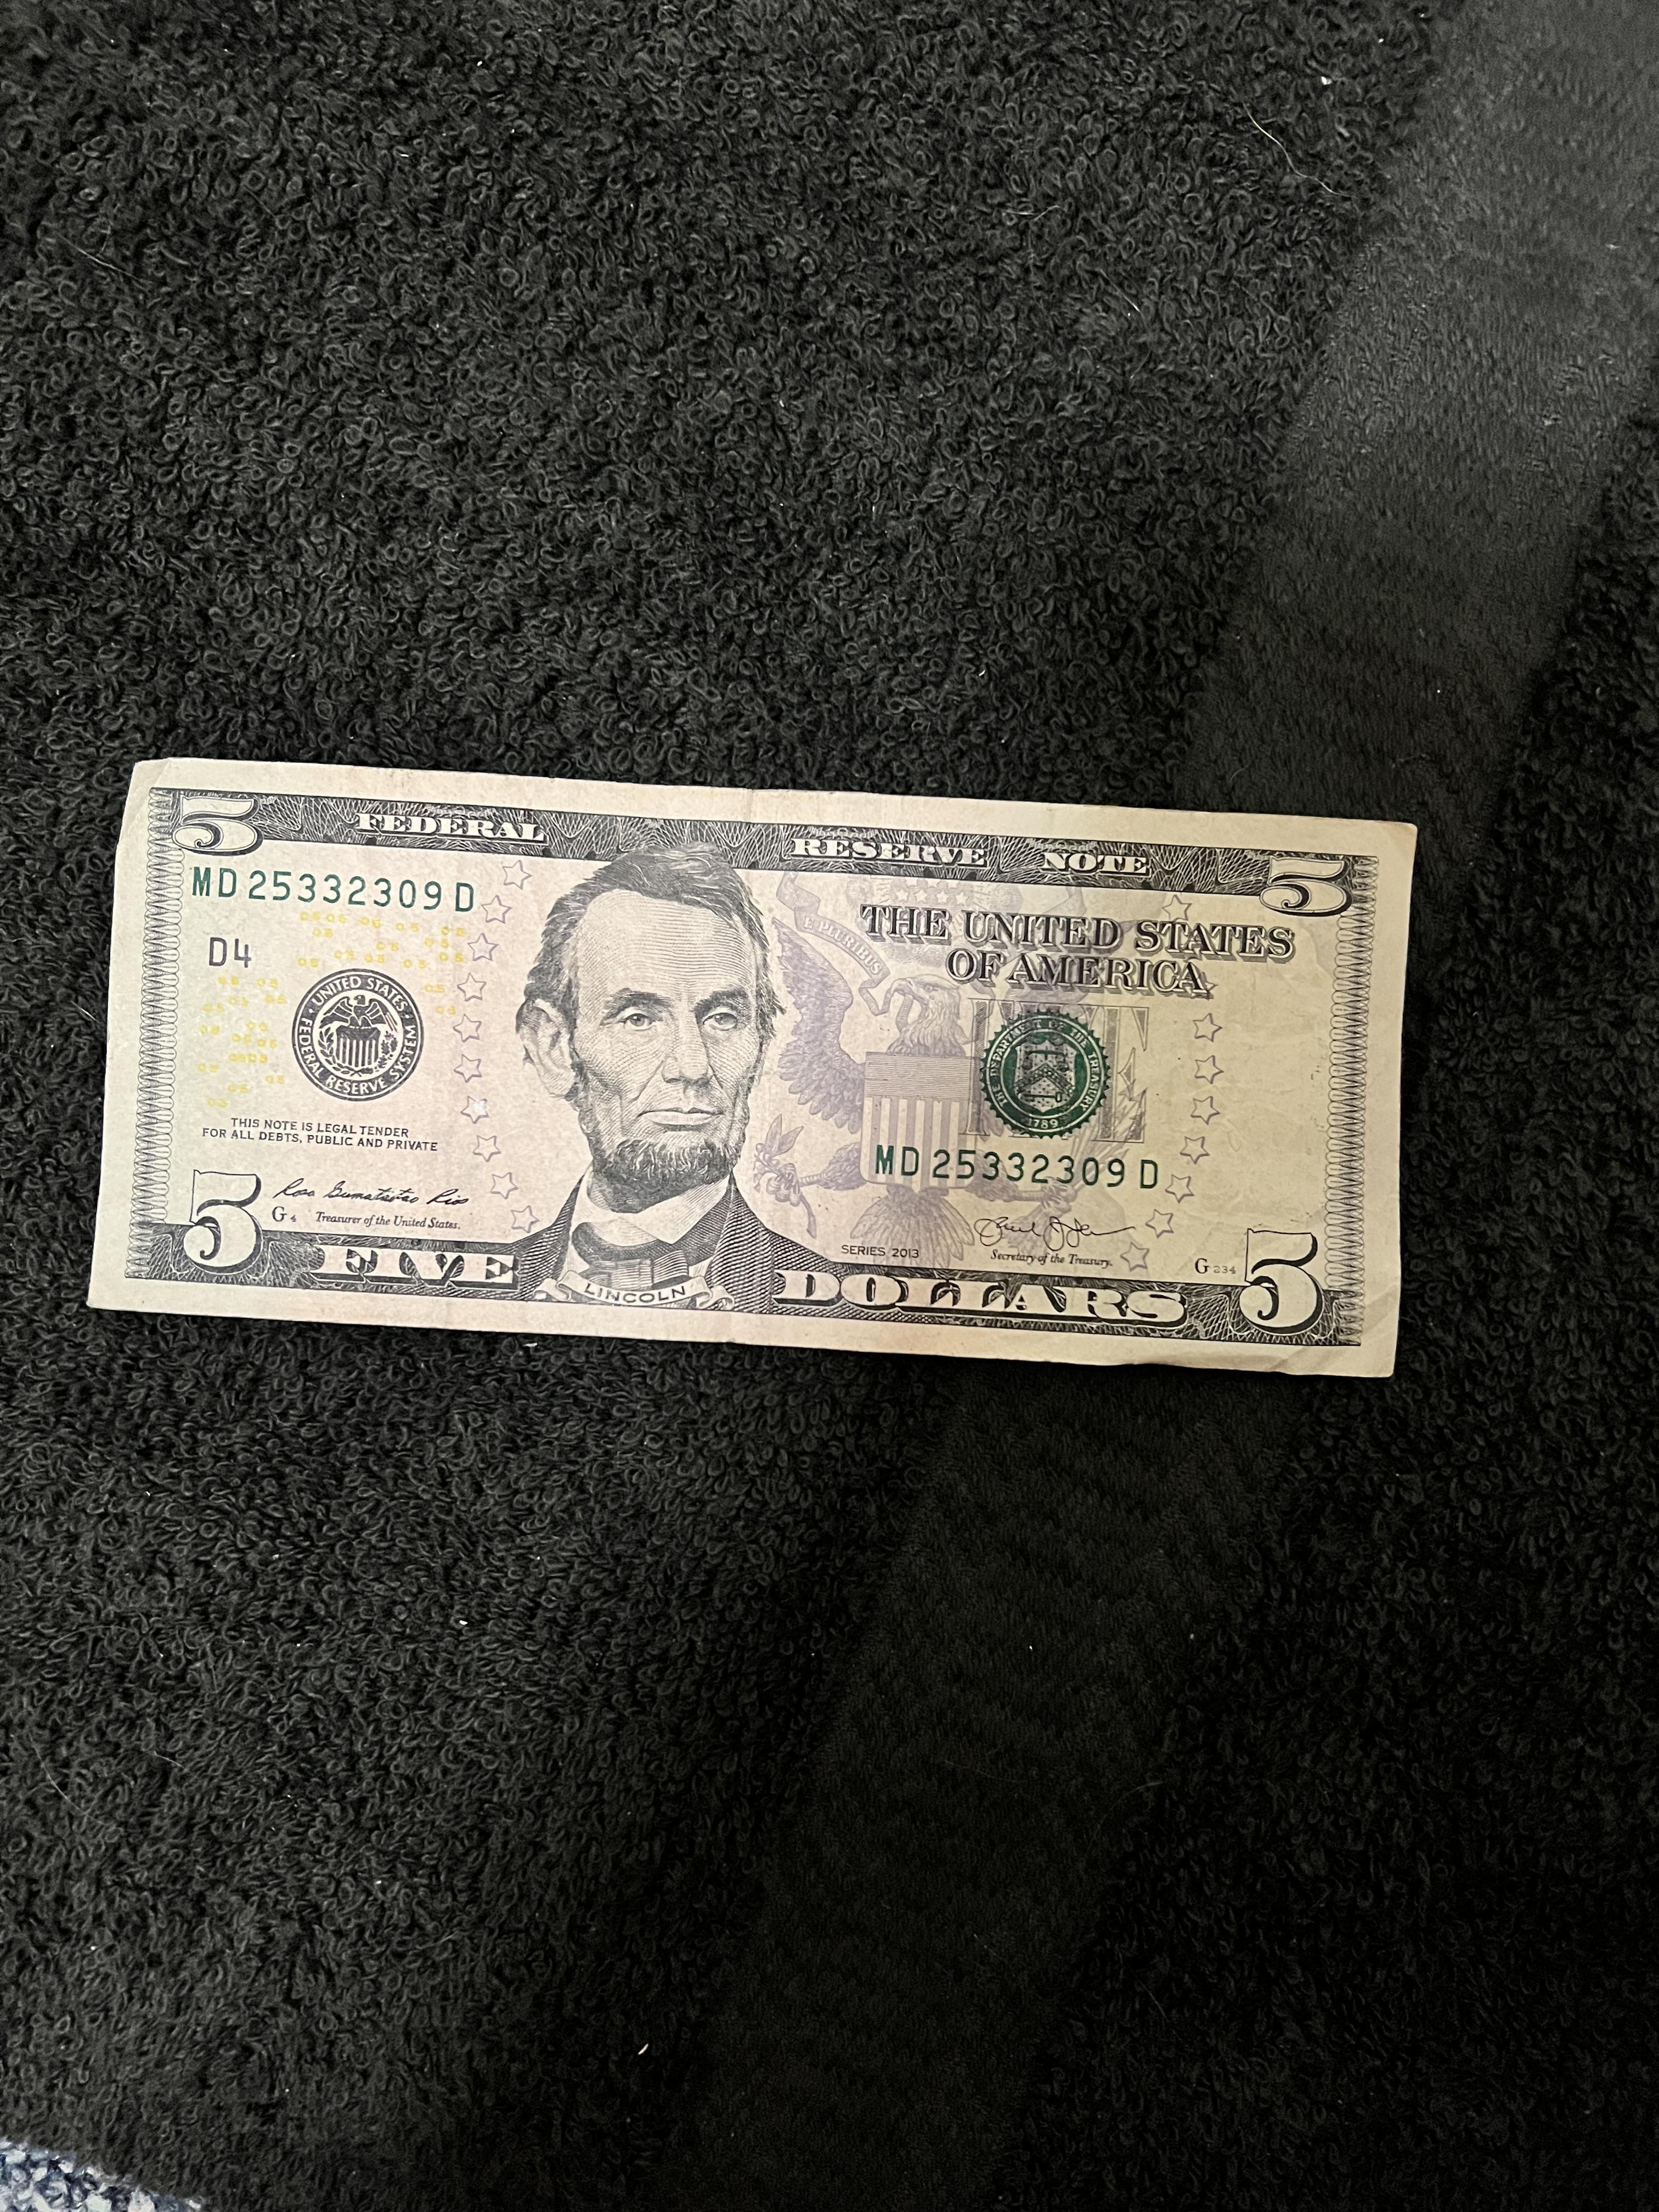FiveBill: (89, 742, 1424, 1397)
